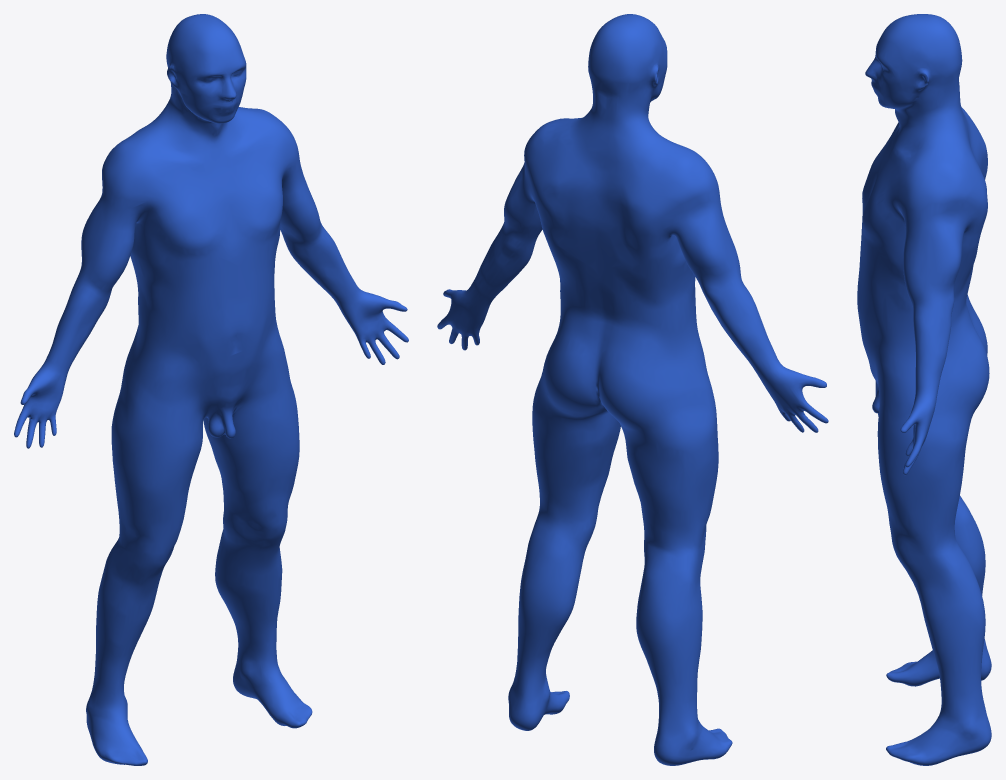
File: vh_m_skin-20.glb
3 renders of one model, left to right at view 1: azimuth 30°, elevation 25°; view 2: azimuth 150°, elevation 25°; view 3: azimuth 270°, elevation 25°, orthographic. The views are drawn at different scales.
Parts seen in each view (by area): view 1: VH_M_skin; view 2: VH_M_skin; view 3: VH_M_skin.
Part boxes in pixels (x1,y1,x2,y2): VH_M_skin: [14, 14, 408, 765]; VH_M_skin: [437, 14, 828, 765]; VH_M_skin: [857, 14, 991, 765].
Size of the model in its own units: 1.05 by 1.83 by 0.3163.
